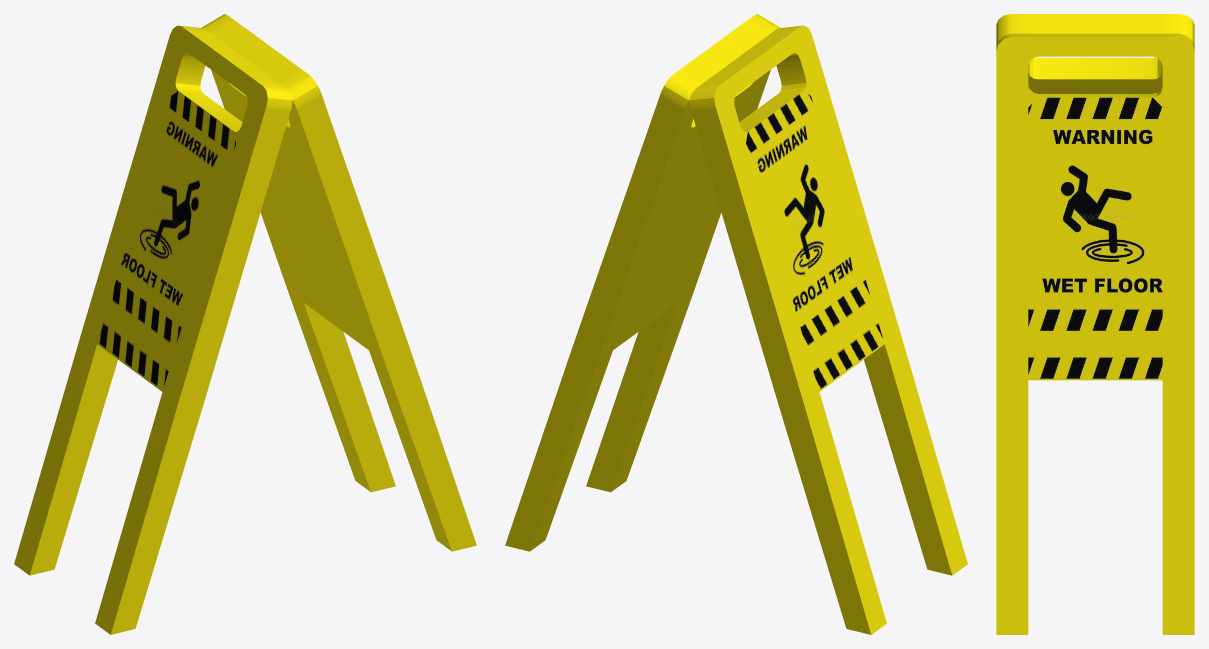
The model's file is wetFloorSign 1.fbx.
3 views of the same model, side by side, from view 1: azimuth 30°, elevation 25°; view 2: azimuth 150°, elevation 25°; view 3: azimuth 270°, elevation 25° (orthographic). The views are drawn at different scales.
Visible parts, largest first — view 1: Cube.001; view 2: Cube.001; view 3: Cube.001.
Part boxes in pixels (left/top/right/bottom): Cube.001: left=14, top=14, right=476, bottom=634; Cube.001: left=505, top=14, right=967, bottom=634; Cube.001: left=996, top=14, right=1194, bottom=634.
Size of the model in its own units: 305 by 139 by 401.
Materials: 2 (1 with a texture image).
